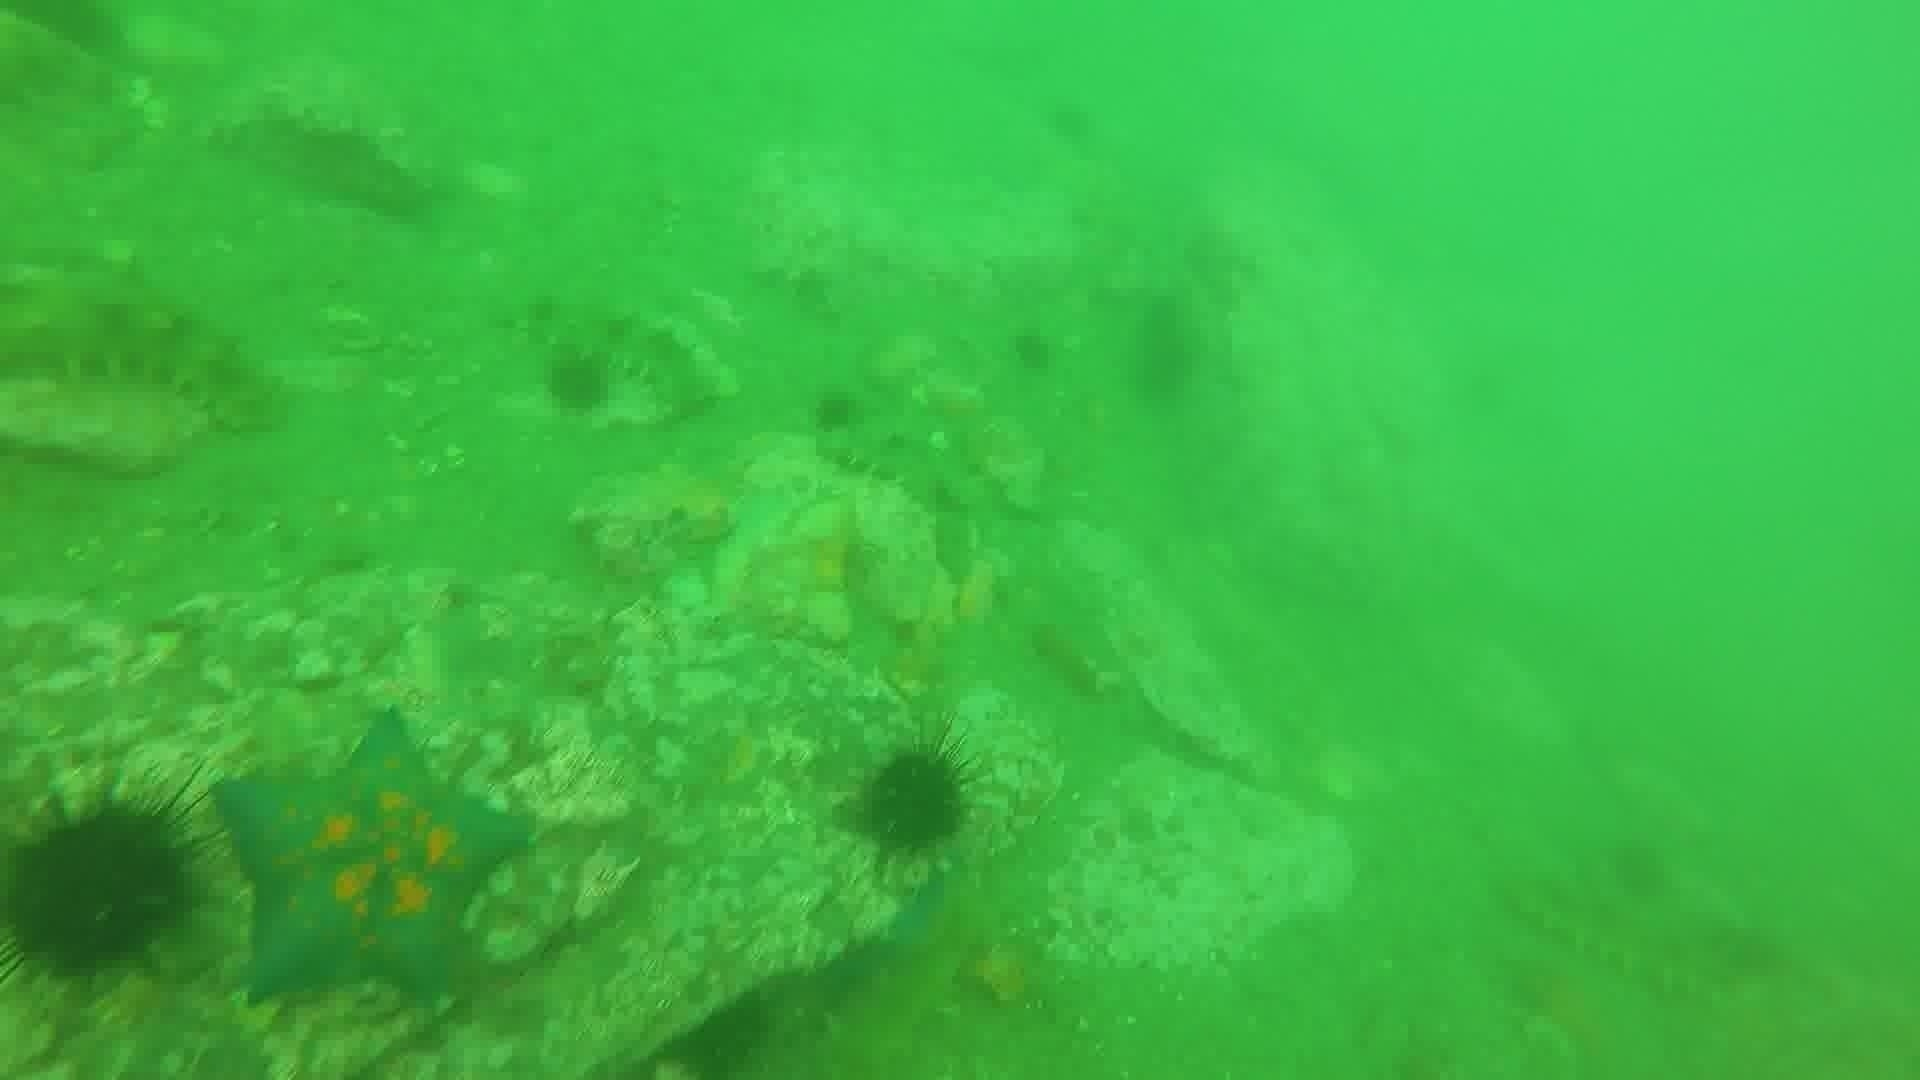echinus: (1, 775, 208, 988), (849, 738, 977, 862), (539, 347, 616, 418), (1604, 835, 1675, 903), (804, 384, 866, 438), (1004, 323, 1062, 378)
holothurian: (3, 280, 284, 433), (1501, 865, 1768, 1002), (814, 884, 982, 1080), (815, 413, 981, 518), (585, 311, 728, 414)
starfish: (208, 709, 535, 1014)
